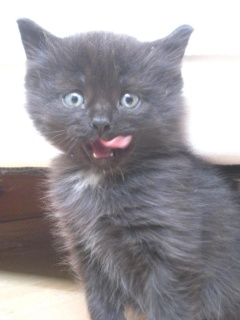Cat: (15, 17, 240, 320)
